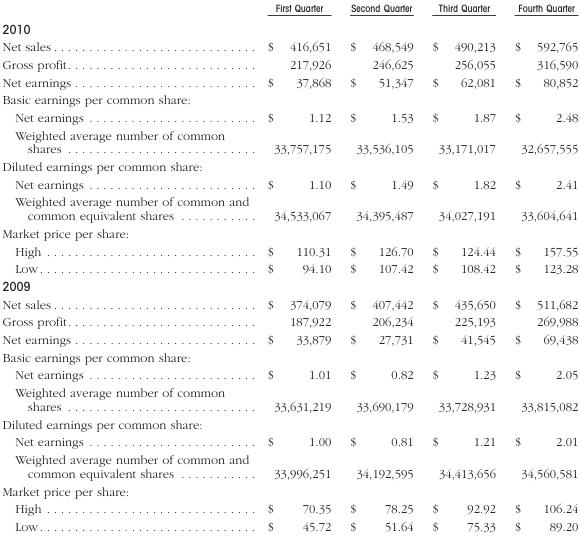table: (1, 1, 577, 533)
table column: (1, 1, 257, 533), (339, 1, 422, 533), (257, 1, 339, 533), (422, 1, 504, 533), (504, 1, 577, 533)
table column header: (1, 1, 577, 16)
table projected row header: (1, 16, 577, 37), (1, 276, 577, 295), (1, 90, 577, 108), (1, 157, 577, 175), (1, 224, 577, 242), (1, 348, 577, 365), (1, 415, 577, 432), (1, 482, 577, 499)
table row: (1, 125, 577, 157), (1, 192, 577, 224), (1, 383, 577, 415), (1, 450, 577, 482), (1, 16, 577, 37), (1, 276, 577, 295), (1, 37, 577, 55), (1, 72, 577, 90), (1, 90, 577, 108), (1, 157, 577, 175), (1, 224, 577, 242), (1, 312, 577, 330), (1, 330, 577, 348), (1, 365, 577, 383), (1, 432, 577, 450), (1, 499, 577, 517), (1, 55, 577, 72), (1, 108, 577, 125), (1, 175, 577, 192), (1, 242, 577, 259), (1, 259, 577, 276), (1, 295, 577, 312), (1, 348, 577, 365), (1, 415, 577, 432), (1, 482, 577, 499), (1, 517, 577, 533), (1, 1, 577, 16)
